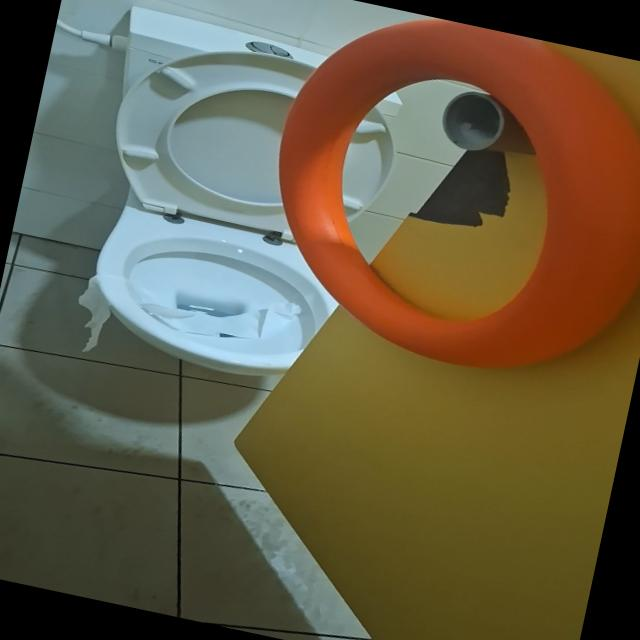note: (241, 0, 640, 400)
